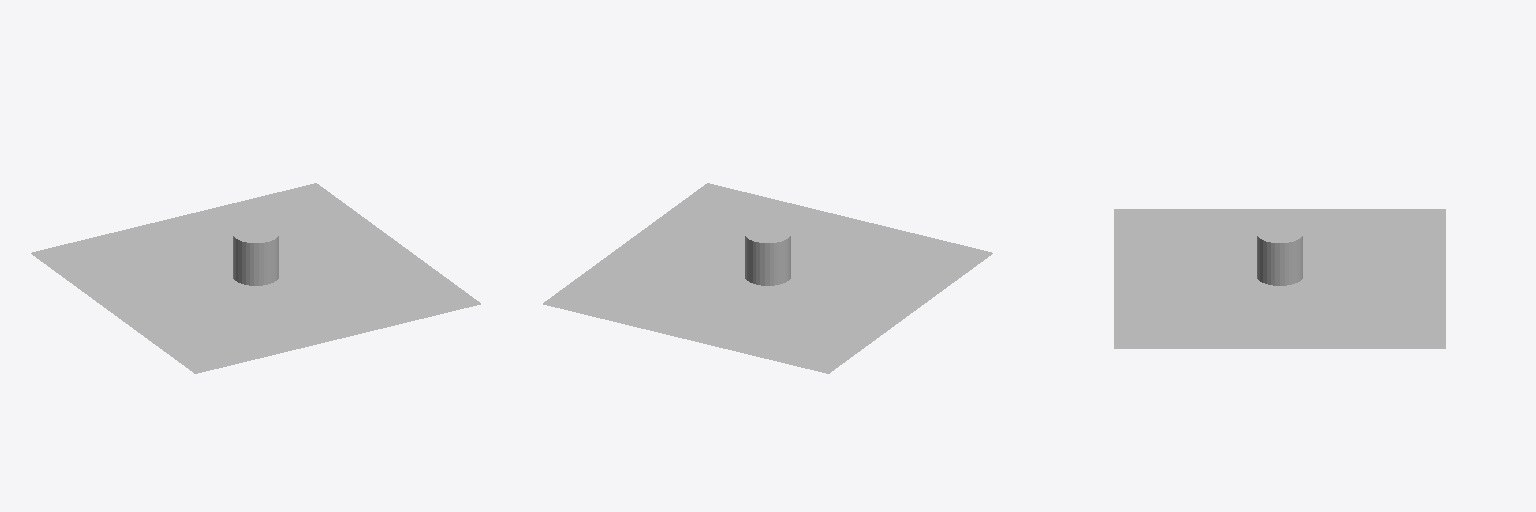
File: test_world.obj
The picture shows the model from 3 angles: view 1: azimuth 30°, elevation 25°; view 2: azimuth 150°, elevation 25°; view 3: azimuth 270°, elevation 25°; orthographic projection.
Visible parts, largest first — view 1: Plane, Cylinder; view 2: Plane, Cylinder; view 3: Plane, Cylinder.
Boxes of the visible parts, <box> form: Plane: <box>31,183,480,373</box>; Cylinder: <box>233,224,278,285</box>; Plane: <box>543,183,992,373</box>; Cylinder: <box>745,224,790,285</box>; Plane: <box>1114,209,1445,348</box>; Cylinder: <box>1257,224,1302,285</box>.
Size of the model in its own units: 303 by 45.61 by 303.